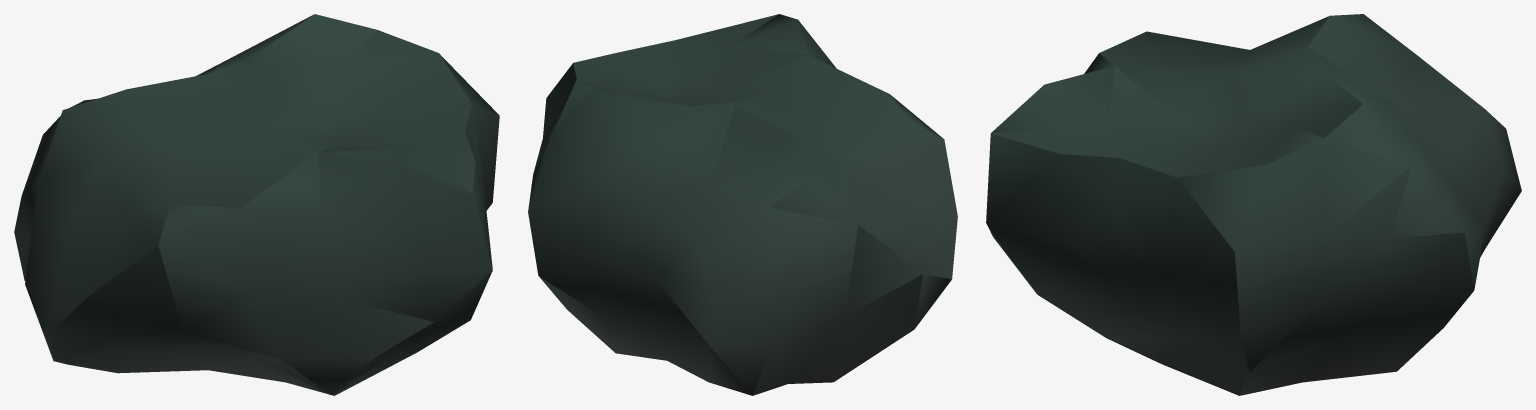
File: SM_Rock_07.fbx
3 renders of one model, left to right at view 1: azimuth 30°, elevation 25°; view 2: azimuth 150°, elevation 25°; view 3: azimuth 270°, elevation 25°, orthographic. The views are drawn at different scales.
Parts seen in each view (by area): view 1: SM_Rock_07; view 2: SM_Rock_07; view 3: SM_Rock_07.
Part boxes in pixels (x1=…): SM_Rock_07: x1=14, y1=14, x2=499, y2=395; SM_Rock_07: x1=528, y1=14, x2=957, y2=395; SM_Rock_07: x1=986, y1=14, x2=1521, y2=395.
Size of the model in its own units: 132 by 79.93 by 131.
1 material, 1 textured.
